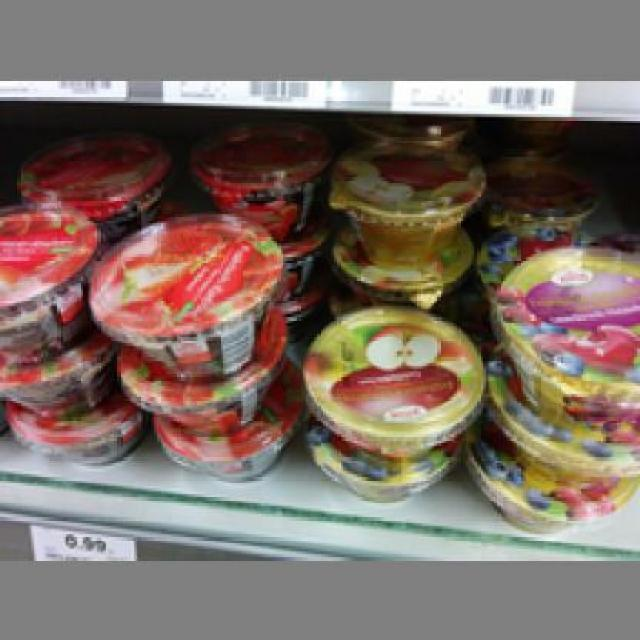Jam: (86, 212, 283, 378), (300, 300, 486, 460), (488, 240, 638, 437), (331, 140, 484, 266), (0, 201, 95, 369)
